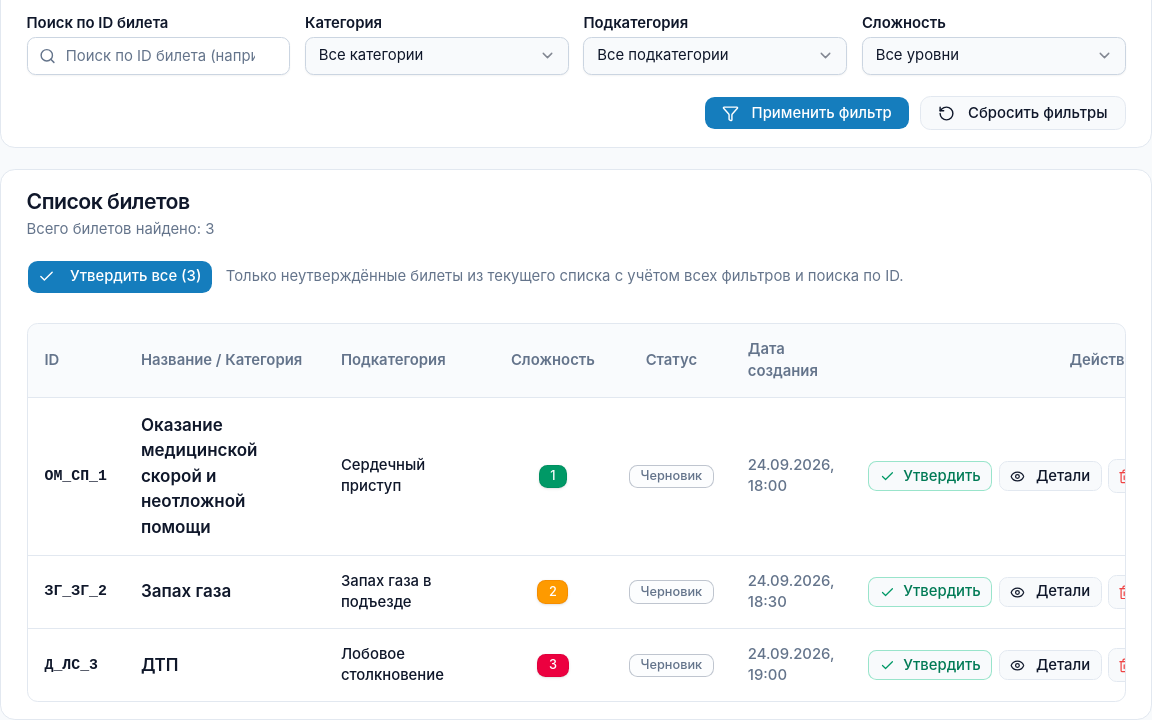
Test: 27.2 / ТЗ 30: База билетов и генерация › ТЗ 39.3: Opening a ticket modal immediately fetches /api/classifier/details?category=...&subcategory=... to display the complete up-to-date etalon services
The image size is (1152, 720).
(page scrolled)
Expected: the table shows "ДТП", [141,654,178,674]
// Open ticket 2 (ДТП / Лобовое столкновение)
Click the button "Детали" in the row of "Д_ЛС_3" at (1050, 665), box [999,650,1102,680]
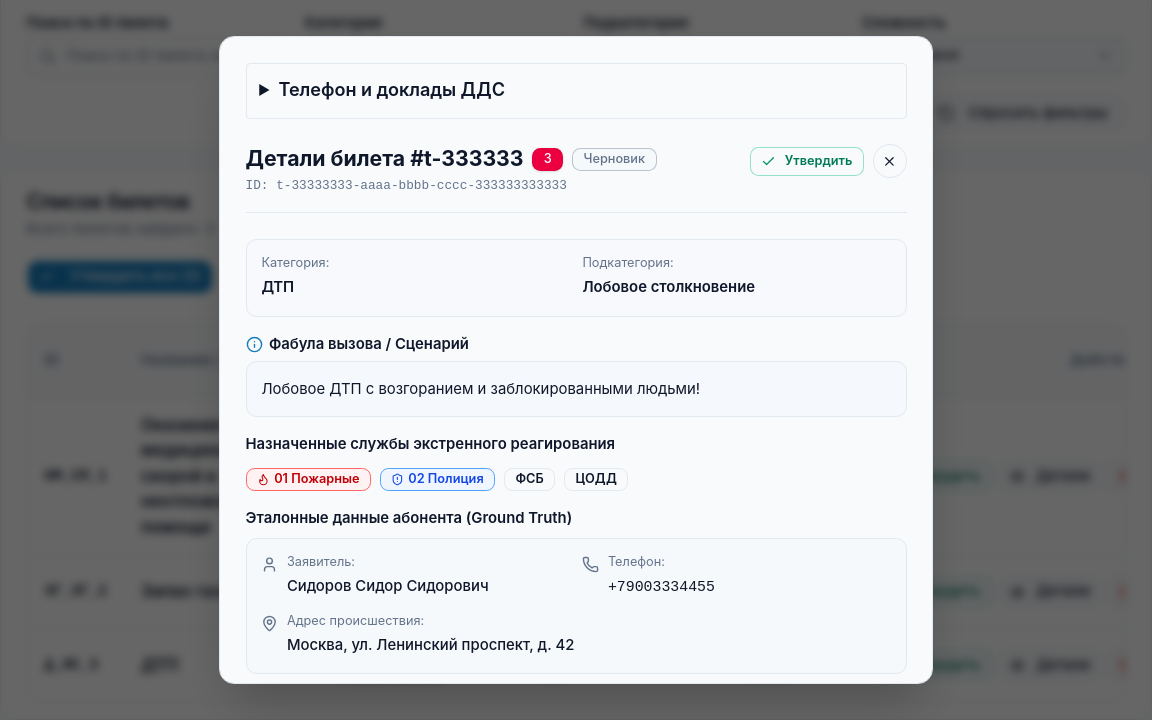
Expected: the dialog is shown
Expected: the text "ФСБ" is shown, [504,468,555,491]
Expected: the text "ЦОДД" is shown, [564,468,628,491]
